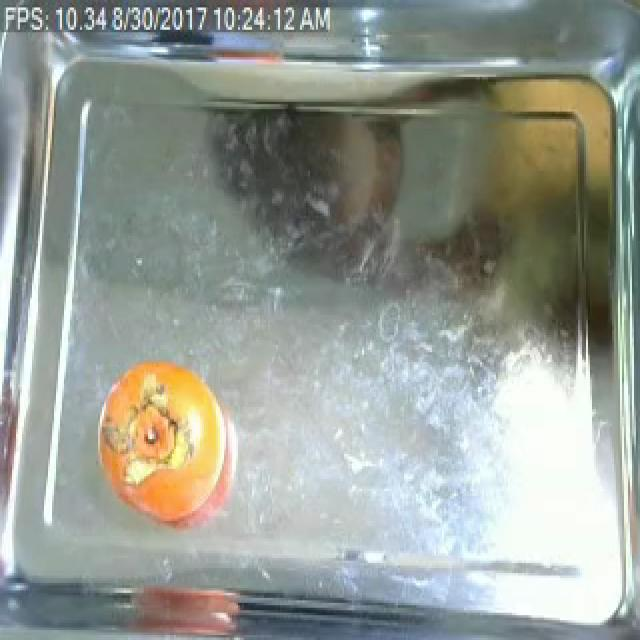Fruit: (96, 352, 226, 528)
